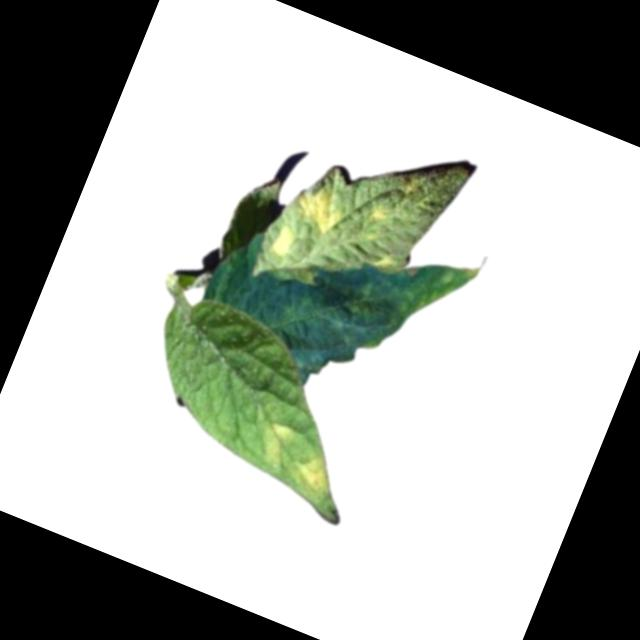Leaf_Mold: (389, 241, 478, 335), (284, 174, 352, 238), (281, 443, 344, 507), (249, 412, 299, 470), (263, 221, 300, 265), (360, 195, 396, 228)
